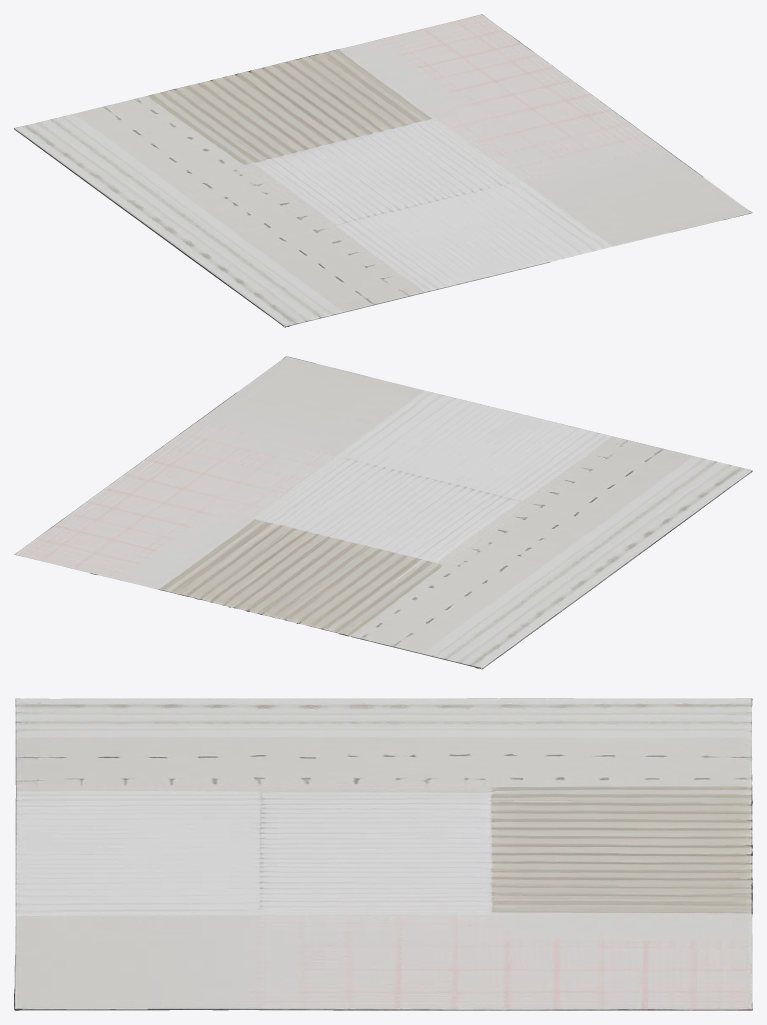
3 views of the same model, one above another, from view 1: azimuth 30°, elevation 25°; view 2: azimuth 150°, elevation 25°; view 3: azimuth 270°, elevation 25° (orthographic). The views are drawn at different scales.
Parts seen in each view (by area): view 1: world; view 2: world; view 3: world.
Boxes of the visible parts, x1,y1,x2,y2 form: world: [14, 14, 752, 327]; world: [14, 356, 752, 669]; world: [14, 698, 752, 1010].
Size of the model in its own units: 0.9951 by 0.00678 by 0.9988.
1 material, 1 textured.
